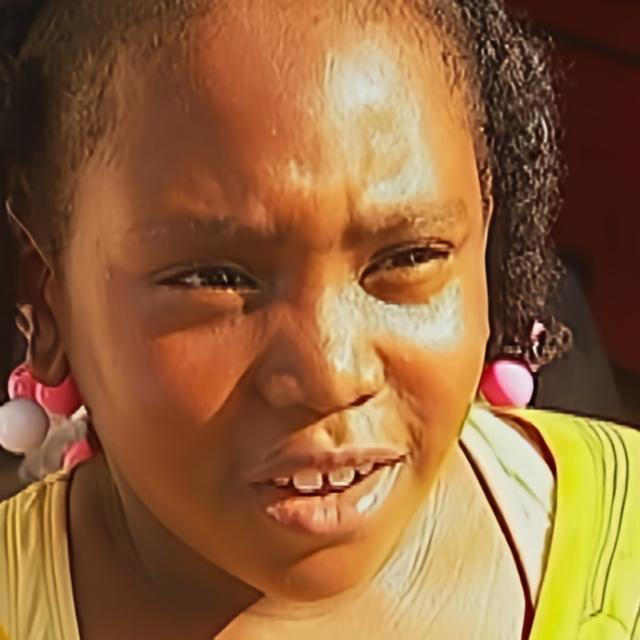disgust: (66, 0, 491, 599)
